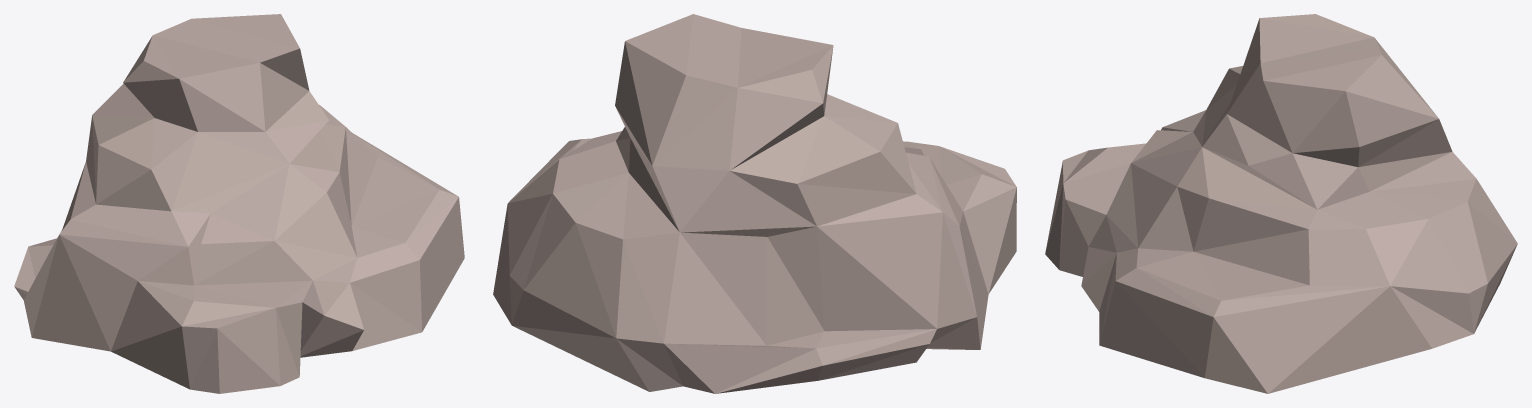
File: rock_014.fbx
3 renders of one model, left to right at view 1: azimuth 30°, elevation 25°; view 2: azimuth 150°, elevation 25°; view 3: azimuth 270°, elevation 25°, orthographic. The views are drawn at different scales.
Visible parts, largest first — view 1: rock.014; view 2: rock.014; view 3: rock.014.
Part boxes in pixels (bbox=[...]): rock.014: bbox=[14, 14, 464, 393]; rock.014: bbox=[493, 14, 1016, 393]; rock.014: bbox=[1045, 14, 1517, 393].
Size of the model in its own units: 876 by 473 by 823.
1 material, 1 textured.
